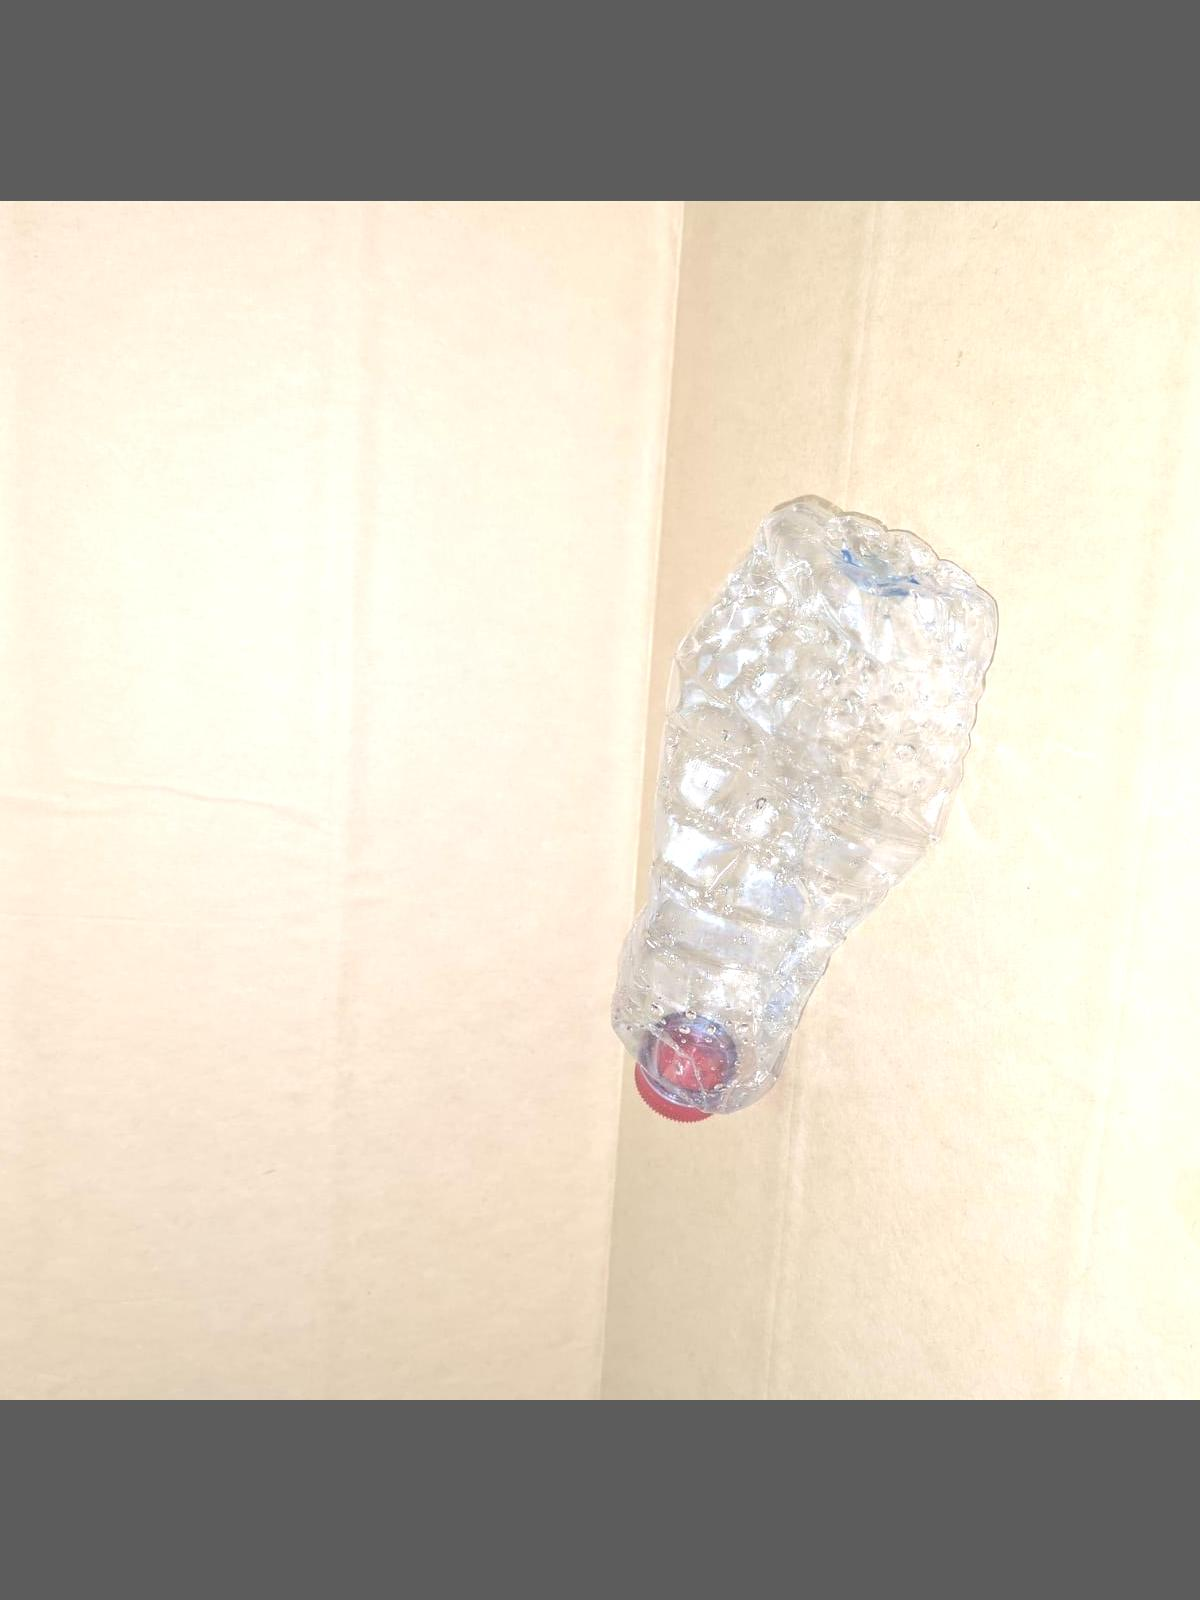bottle: (591, 464, 995, 1151)
